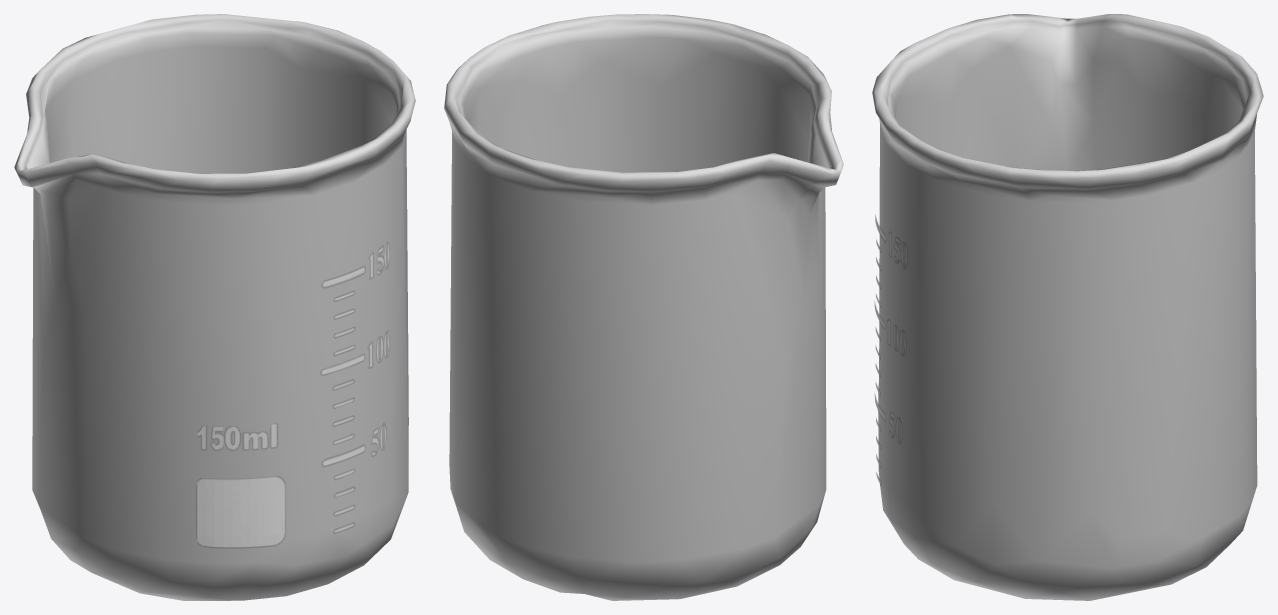
Rendered from beaker.glb.
The picture shows the model from 3 angles, left to right: view 1: azimuth 30°, elevation 25°; view 2: azimuth 150°, elevation 25°; view 3: azimuth 270°, elevation 25°; orthographic projection.
Bounding box in the file's own units: 7.23 × 8.4 × 6.56.
2 materials, 1 textured.
